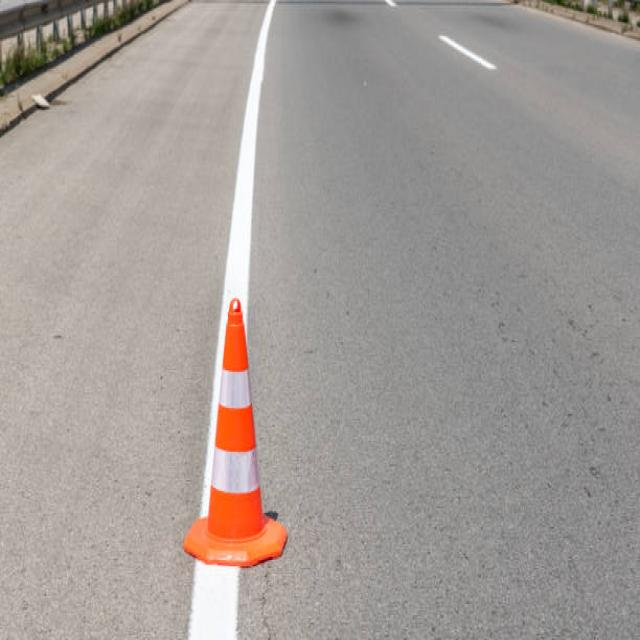Traffic Cone: (160, 255, 300, 588)
